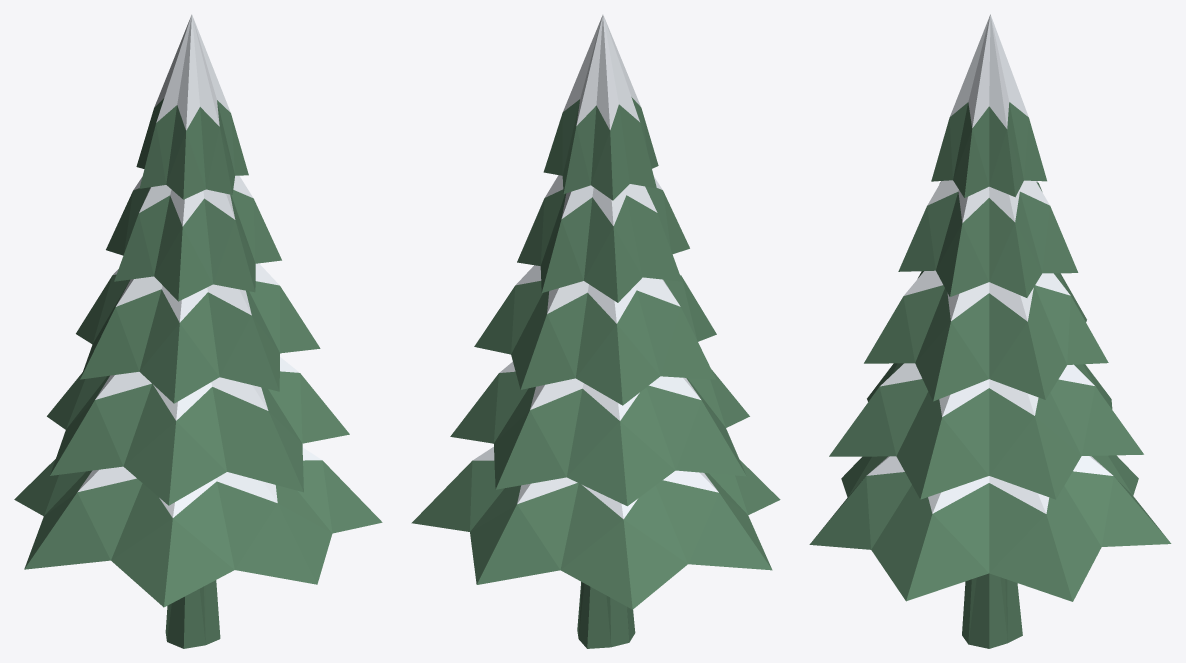
File: Agac_KarliCam_01.fbx
3 renders of one model, left to right at view 1: azimuth 30°, elevation 25°; view 2: azimuth 150°, elevation 25°; view 3: azimuth 270°, elevation 25°, orthographic.
Visible parts, largest first — view 1: Agac_KarliCam_01_LOD0; view 2: Agac_KarliCam_01_LOD0; view 3: Agac_KarliCam_01_LOD0.
Boxes of the visible parts, x1,y1,x2,y2 form: Agac_KarliCam_01_LOD0: [14, 14, 382, 648]; Agac_KarliCam_01_LOD0: [411, 14, 780, 648]; Agac_KarliCam_01_LOD0: [809, 14, 1171, 648].
Size of what is drawn, in the model's own units: 6.2 by 11.56 by 6.1.
